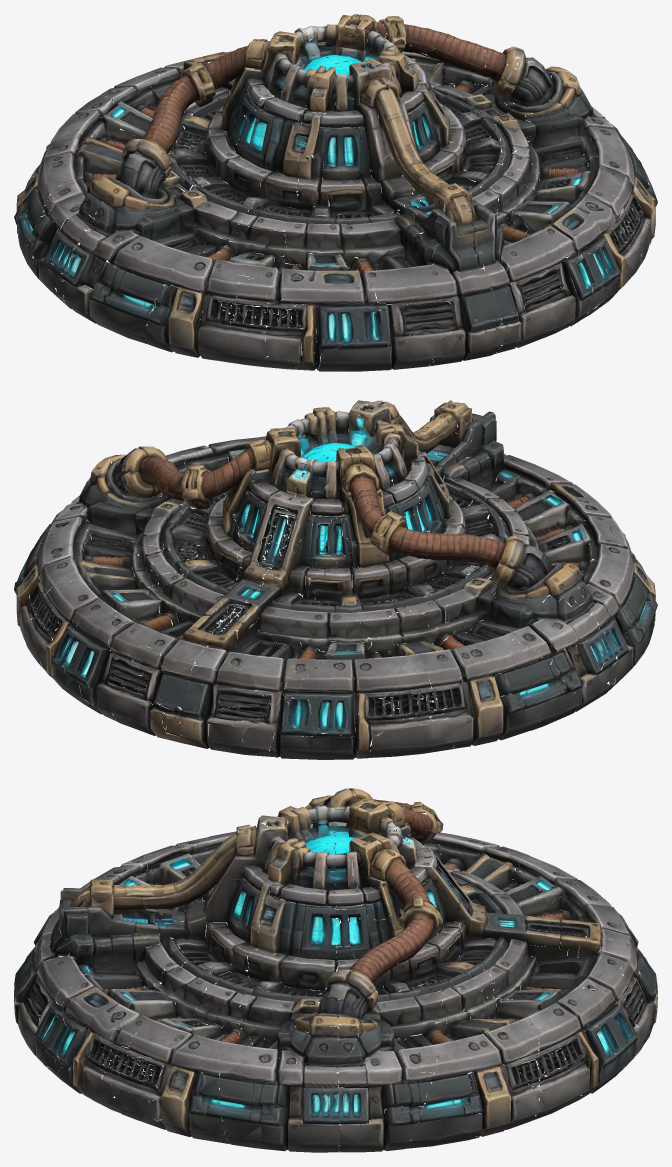
Rendered from warrior-2-tier-2.glb.
The picture shows the model from 3 angles, top to bottom: view 1: azimuth 30°, elevation 25°; view 2: azimuth 150°, elevation 25°; view 3: azimuth 270°, elevation 25°; orthographic projection.
Parts seen in each view (by area): view 1: fixed-platform, moving-assembly; view 2: fixed-platform, moving-assembly; view 3: fixed-platform, moving-assembly.
Part boxes in pixels (left/top/right/bottom): fixed-platform: left=14, top=49, right=657, bottom=371; moving-assembly: left=72, top=14, right=596, bottom=272; fixed-platform: left=14, top=433, right=657, bottom=759; moving-assembly: left=80, top=400, right=592, bottom=656; fixed-platform: left=14, top=831, right=657, bottom=1152; moving-assembly: left=50, top=788, right=601, bottom=1062.
Size of the model in its own units: 0.8336 by 0.2875 by 0.8332.
Materials: 2 (2 with a texture image).
